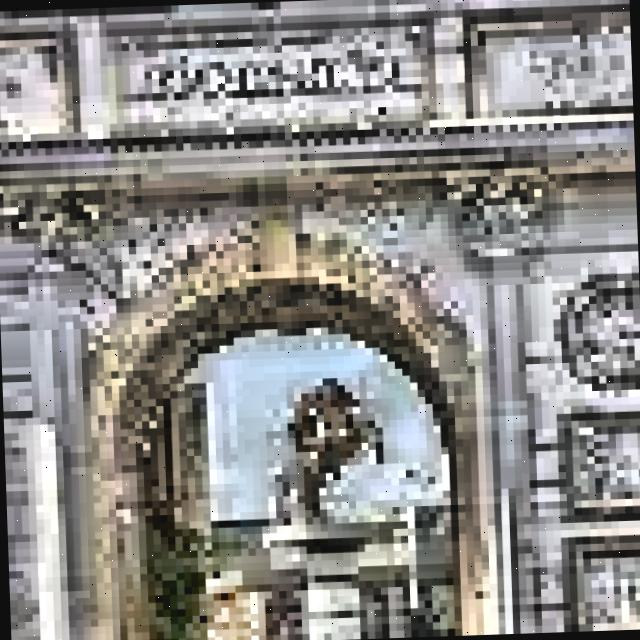alexander the great monument: (260, 371, 399, 640)
triumphal arch: (0, 0, 640, 640)
